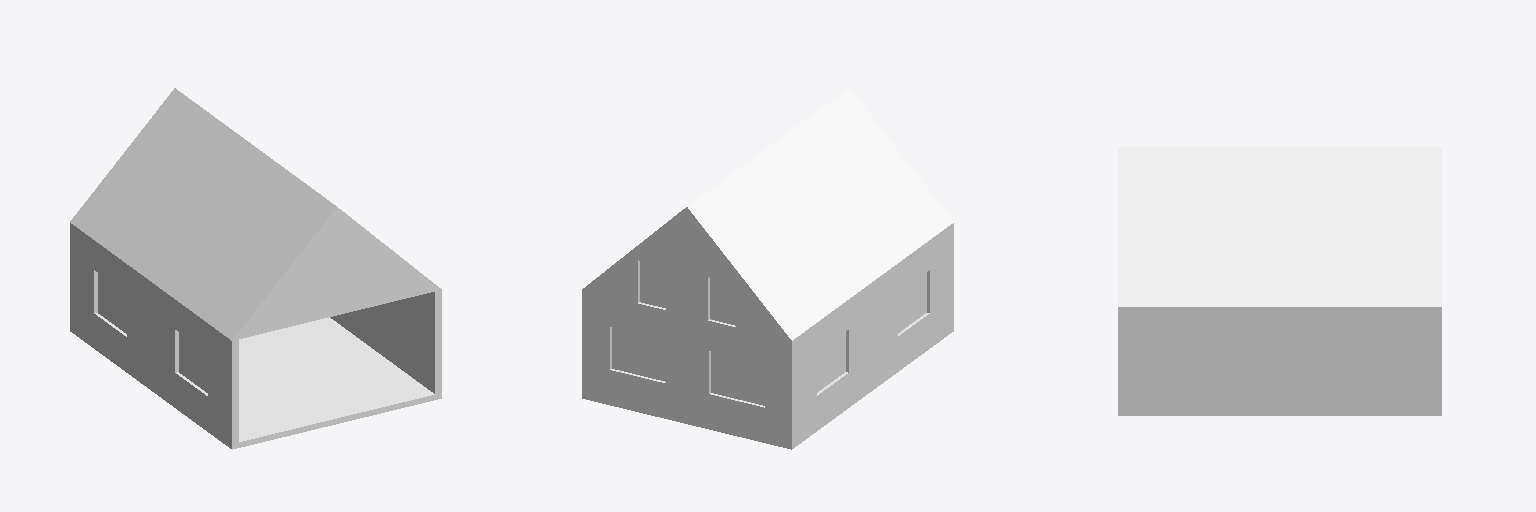
3 renders of one model, left to right at view 1: azimuth 30°, elevation 25°; view 2: azimuth 150°, elevation 25°; view 3: azimuth 270°, elevation 25°, orthographic.
Visible parts, largest first — view 1: object_3, object_9, object_7, object_2, object_8, object_13, object_12; view 2: object_3, object_6, object_7, object_1, object_11, object_10, object_9, object_12, object_13, object_4, object_5; view 3: object_3, object_8, object_9, object_6.
Part boxes in pixels (x1,y1,x2,y2): object_3: (70,88,441,340); object_9: (70,317,441,449); object_7: (74,226,238,443); object_2: (240,214,434,338); object_8: (330,290,441,393); object_13: (179,333,207,392); object_12: (98,273,126,333); object_3: (582,88,953,340); object_6: (582,290,795,443); object_7: (796,223,953,440); object_1: (589,214,783,338); object_11: (612,327,665,381); object_10: (711,351,764,405); object_9: (582,326,953,449); object_12: (817,332,845,392); object_13: (898,272,926,332); object_4: (710,278,735,325); object_5: (640,261,665,307); object_3: (1118,147,1441,306); object_8: (1118,307,1433,409); object_9: (1118,410,1441,415); object_6: (1434,307,1441,409).
Size of the model in its own units: 7.97 by 7.88 by 10.66.